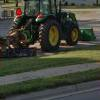Tractor: (8, 5, 89, 53)
